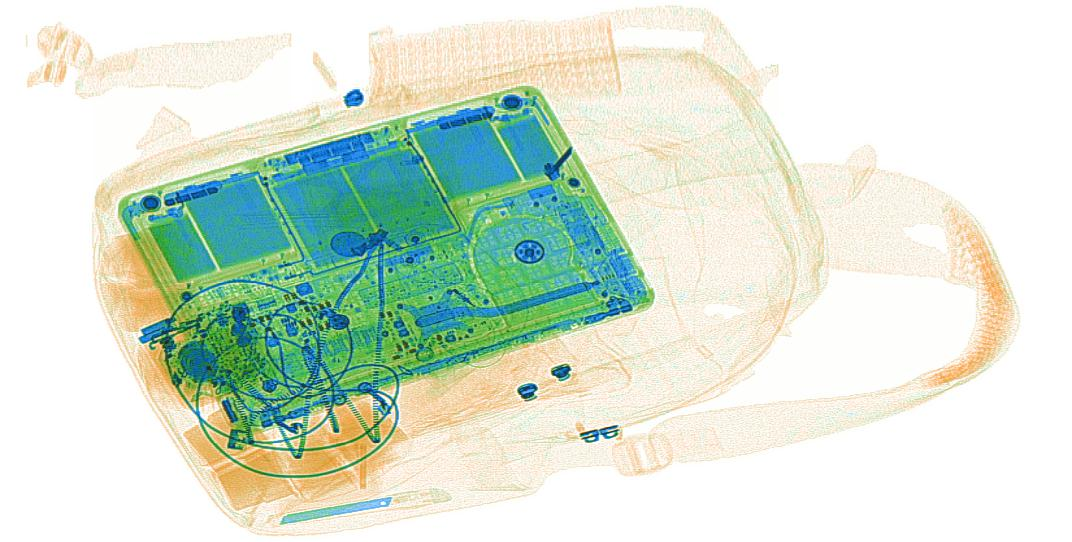knife: (270, 486, 451, 528)
